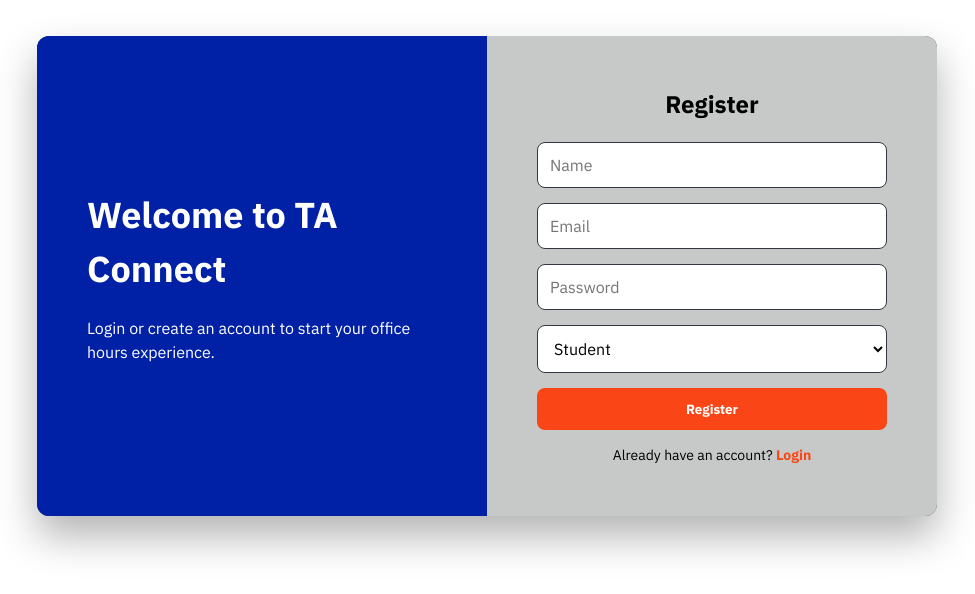
Test: Register page › registers successfully and redirects to login with register flag
This screenshot has width=975, height=594.
Type "New User" into the field with placeholder "Name". click: coordinates (712, 165)
box: [537,142,887,188]
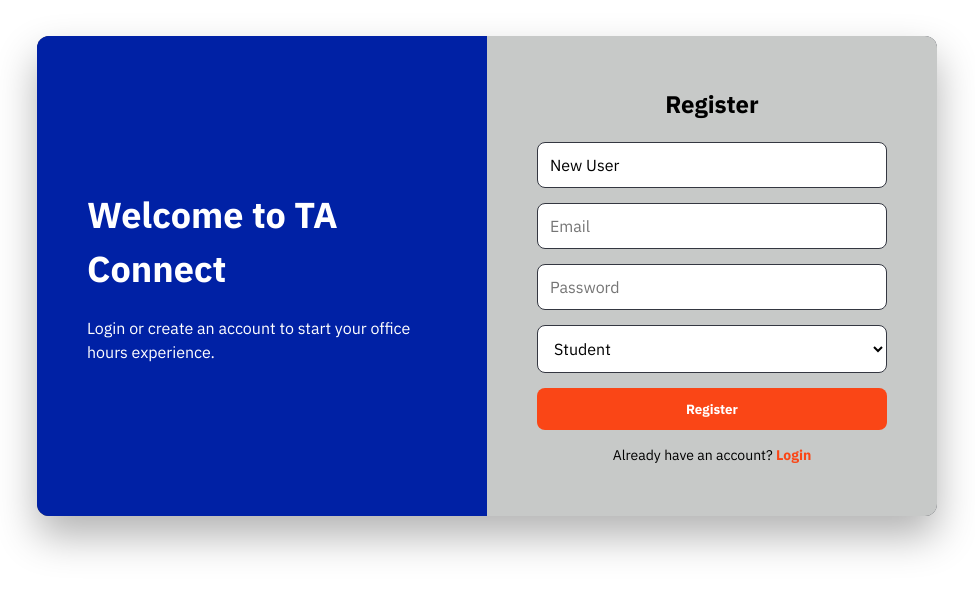
Type "new@test.com" into the field with placeholder "Email". click: coordinates (712, 226)
box: [537,203,887,249]
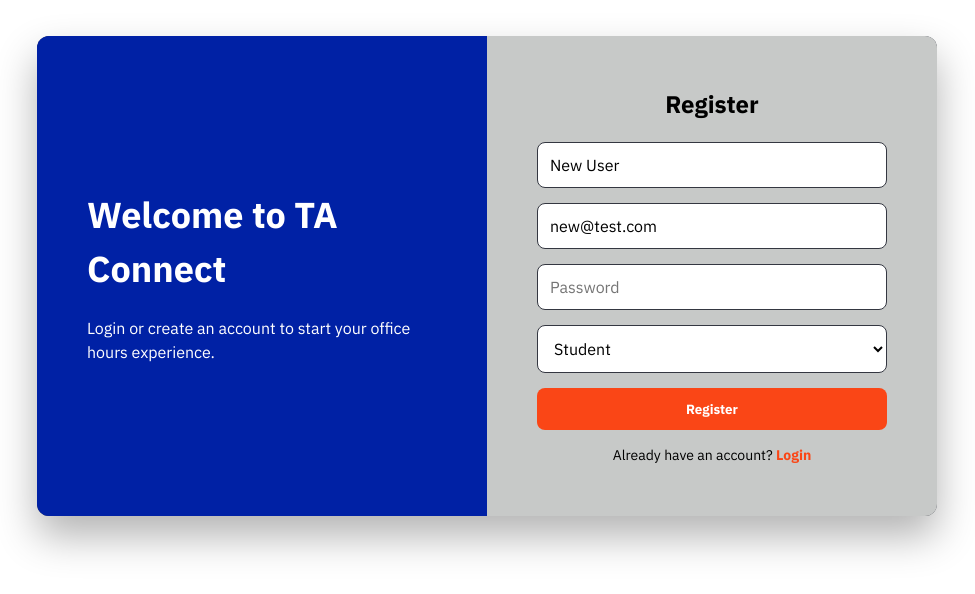
Type "secret" into the password field with placeholder "Password". click: coordinates (712, 287)
box: [537,264,887,310]
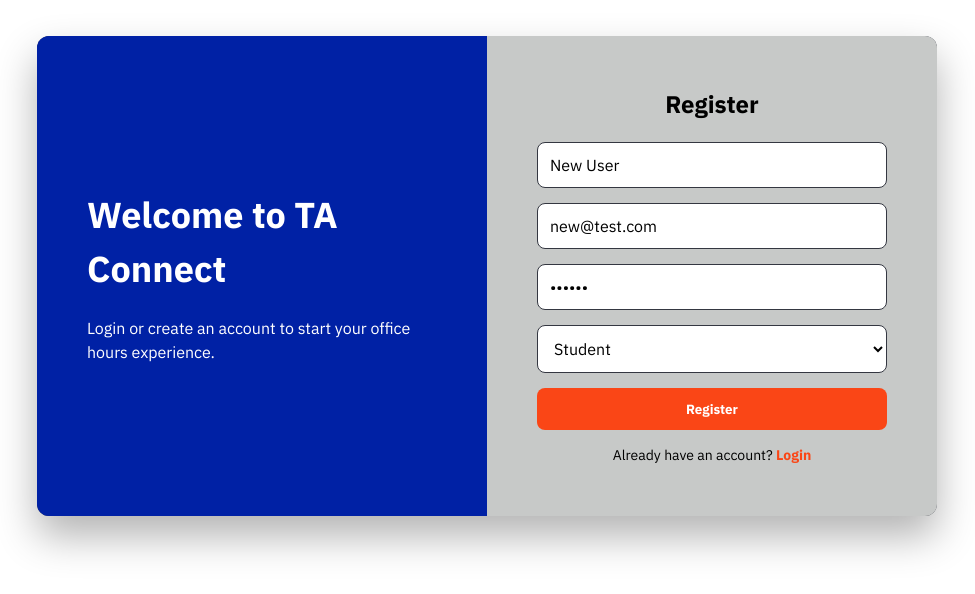
Select "TA" in the dropdown showing "Student". click: coordinates (712, 349)
box: [537,325,887,373]
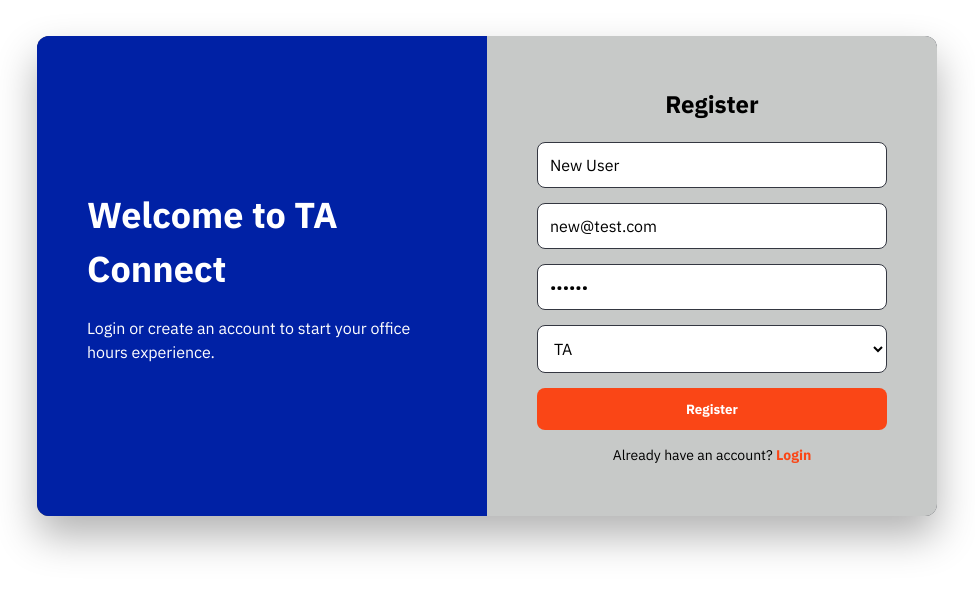
Click the button "Register". click: coordinates (712, 409)
box: [537,388,887,430]
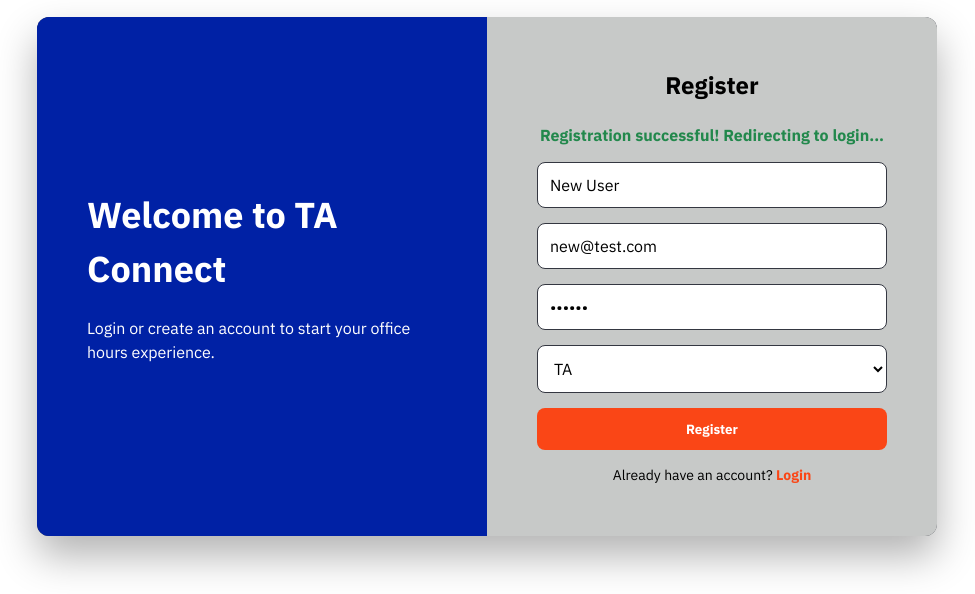
Check: the text "Registration successful! Redirecting to login..." is shown, box [537,122,887,146]
